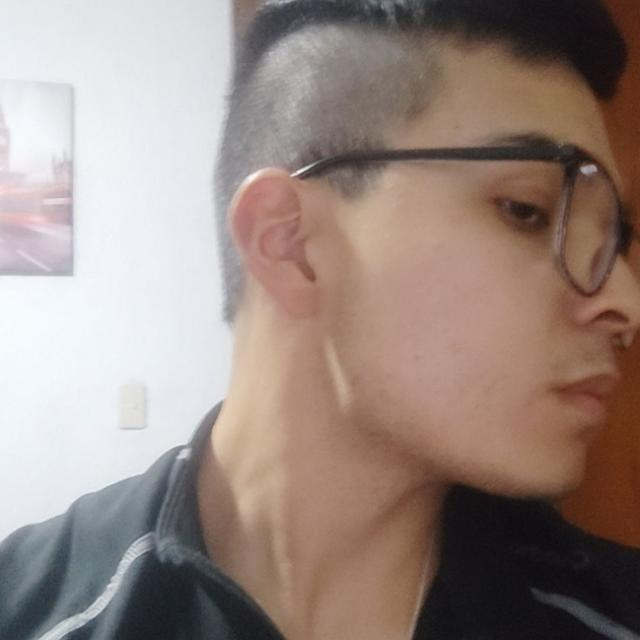ear: (229, 168, 319, 318)
